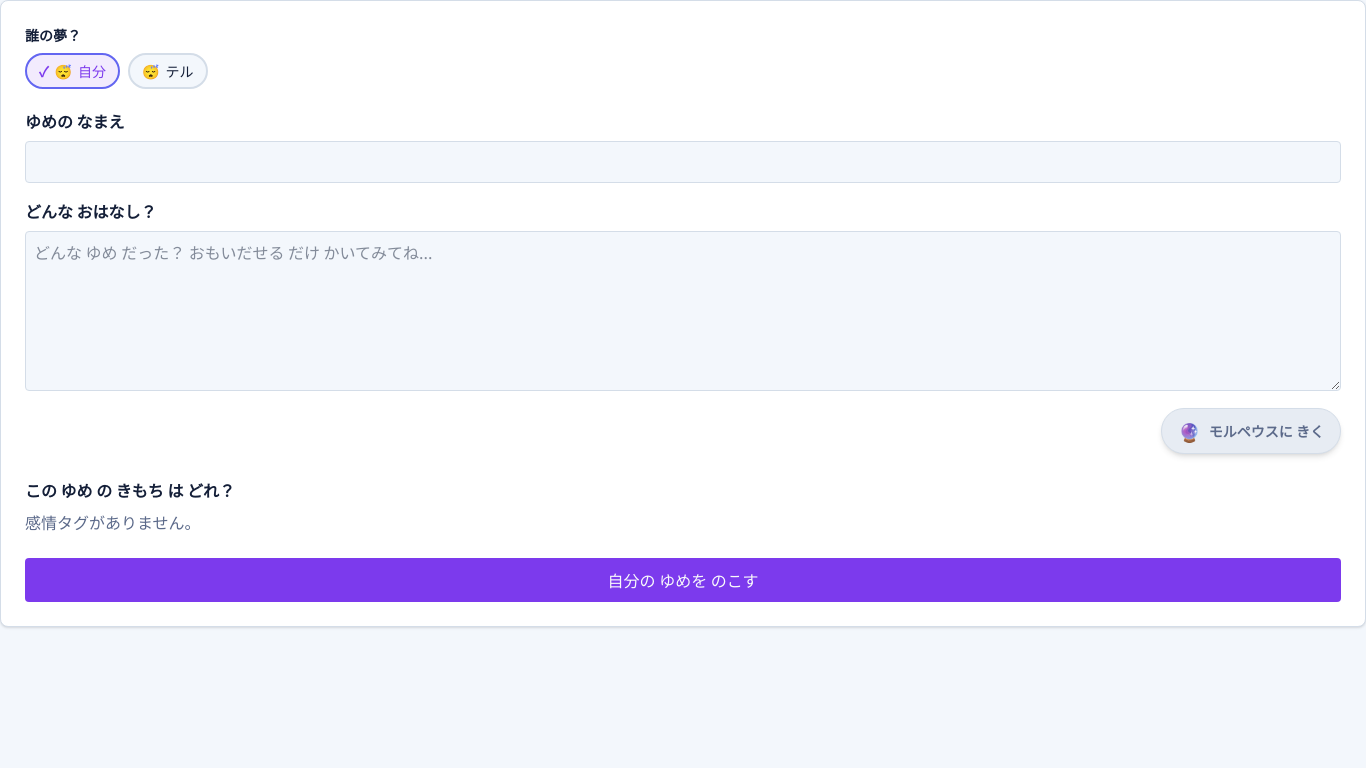
Test: DreamForm: 誰の夢として保存するか › 保存ボタンに、誰の夢として残すかを出す
Expected: the button "自分の ゆめを のこす" is shown, [25, 558, 1341, 602]
Click the button "😴 テル" at (168, 71), box [128, 53, 208, 89]
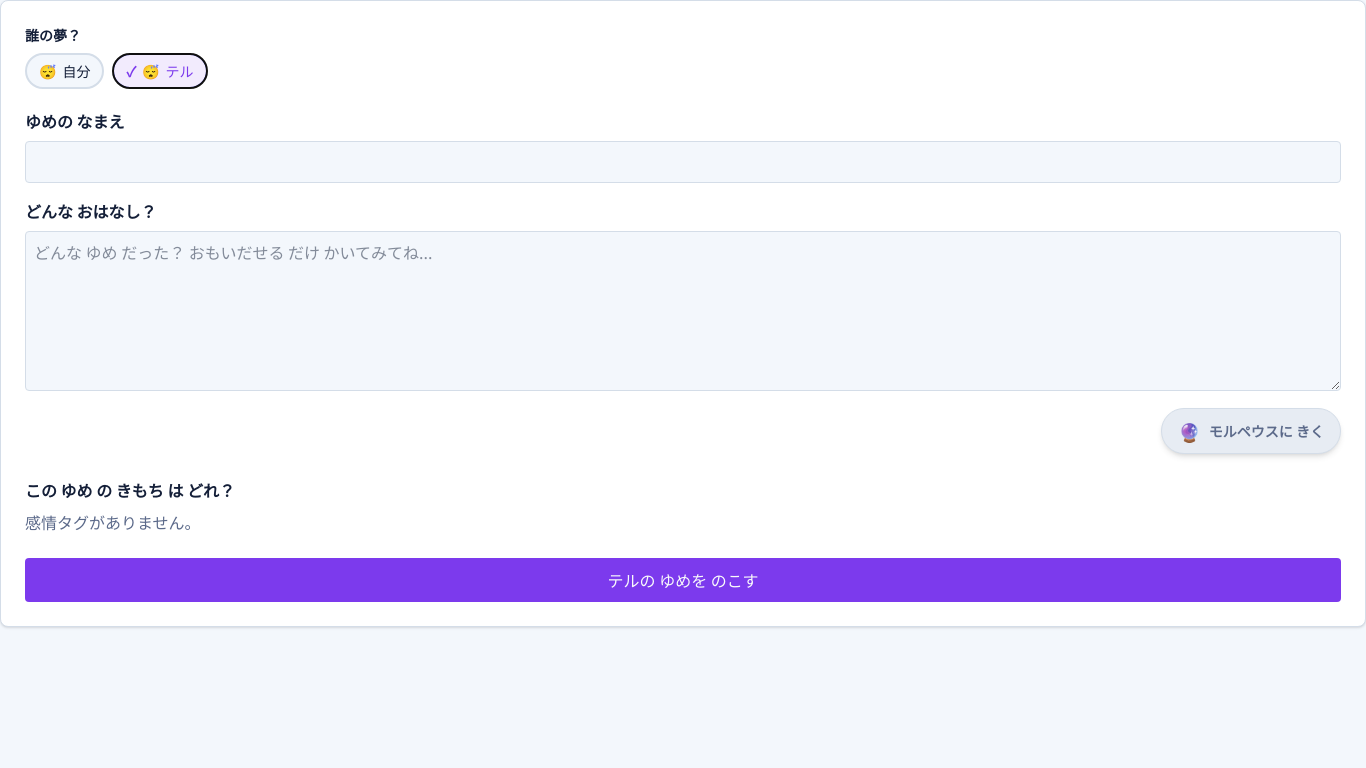
Result: the button "テルの ゆめを のこす" is shown at [25, 558, 1341, 602]
